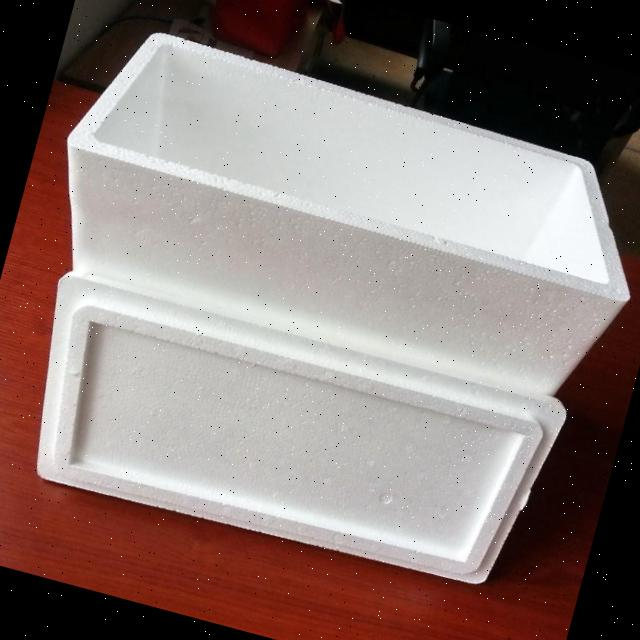styrofoam: (0, 13, 640, 613)
